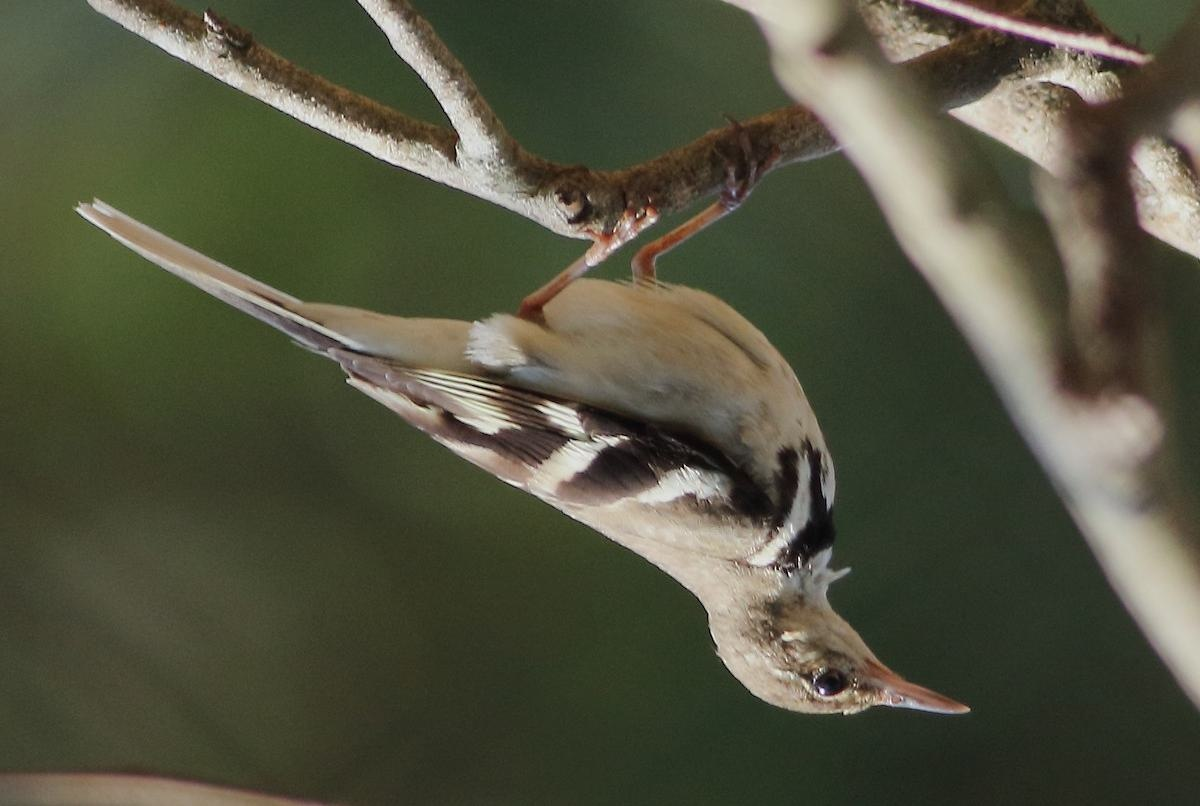wagtail: (111, 129, 987, 726)
